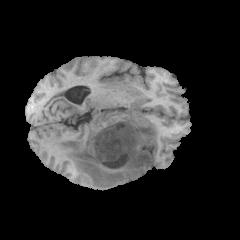glioma: (55, 103, 158, 188)
